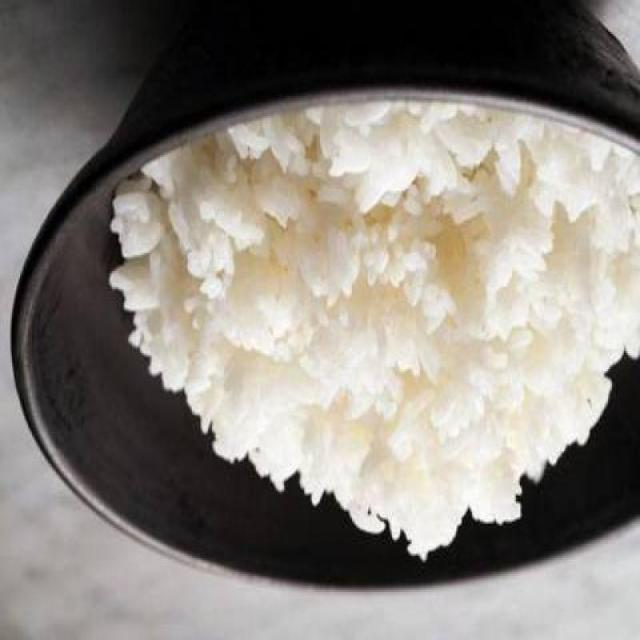nasi_putih: (107, 95, 638, 566)
